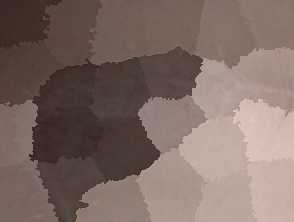vitiligo: (0, 39, 294, 222)
